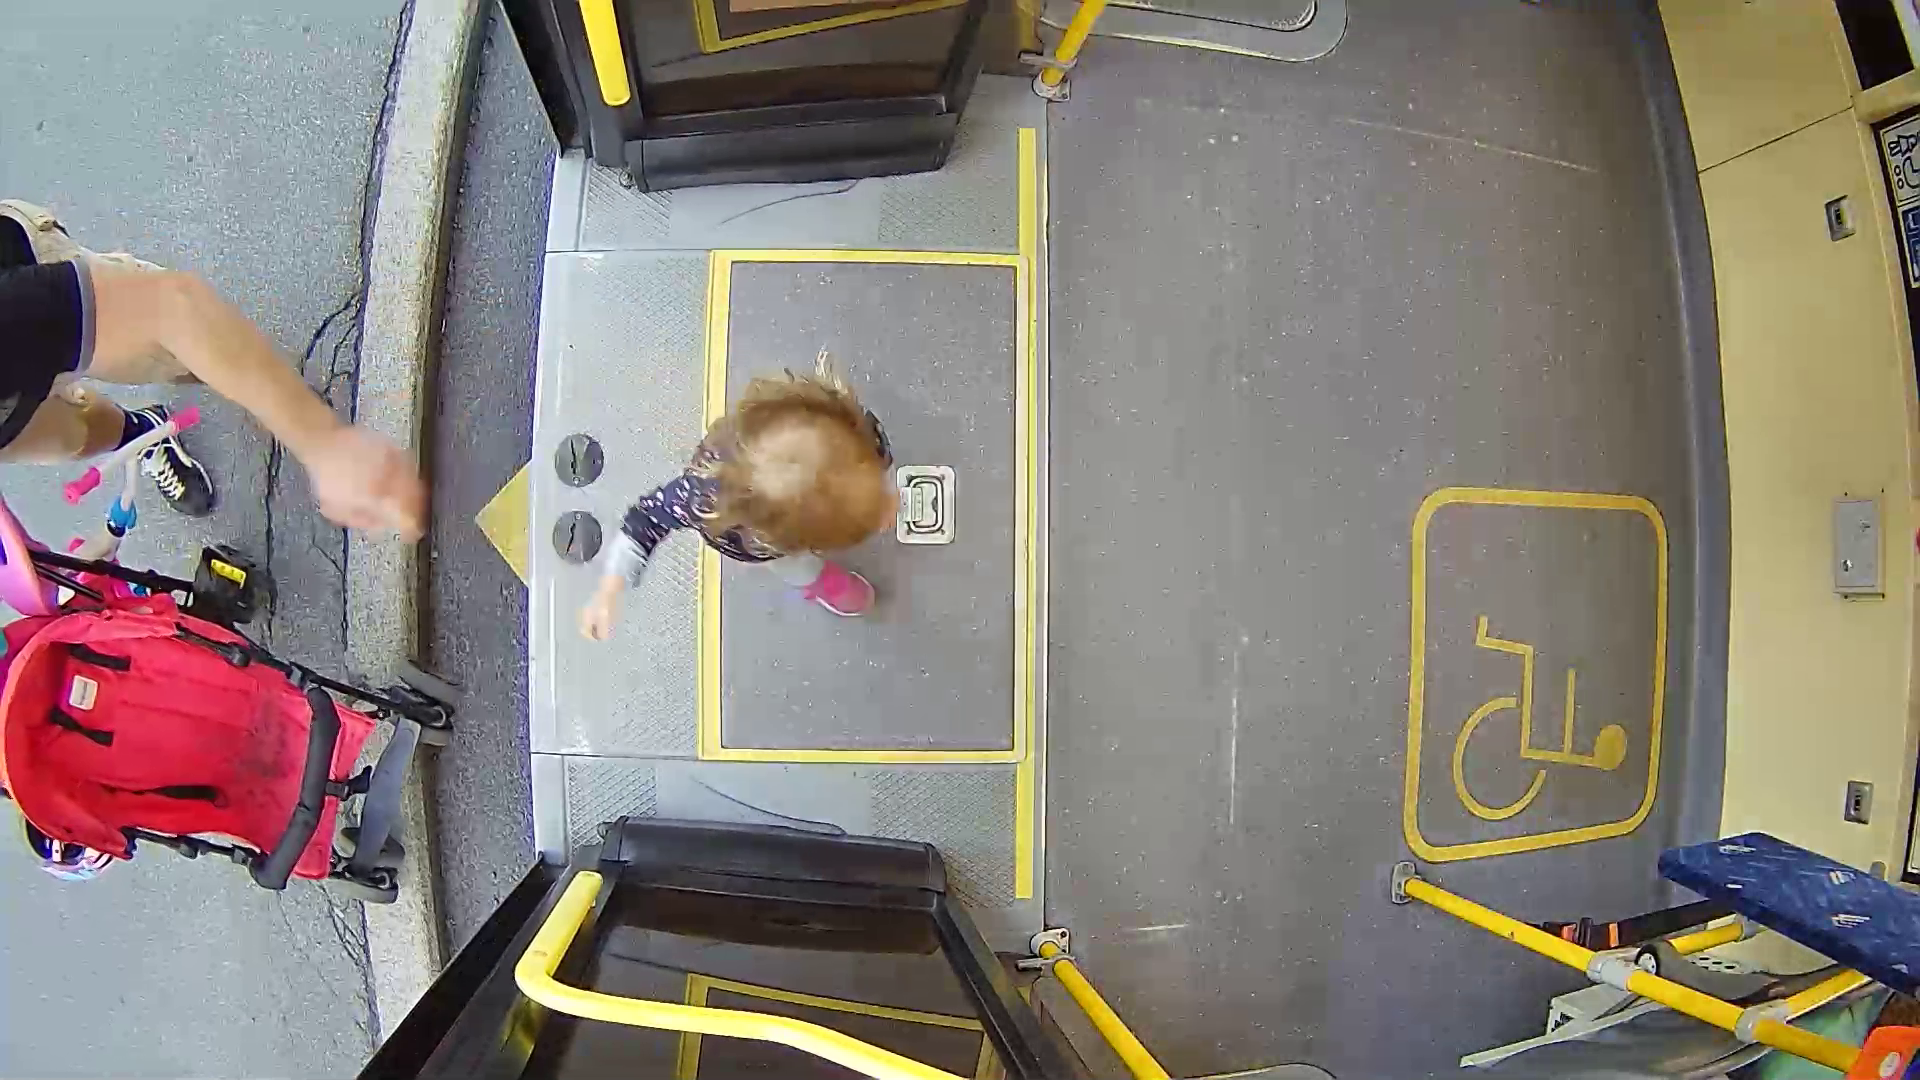person: (457, 301, 1057, 686)
